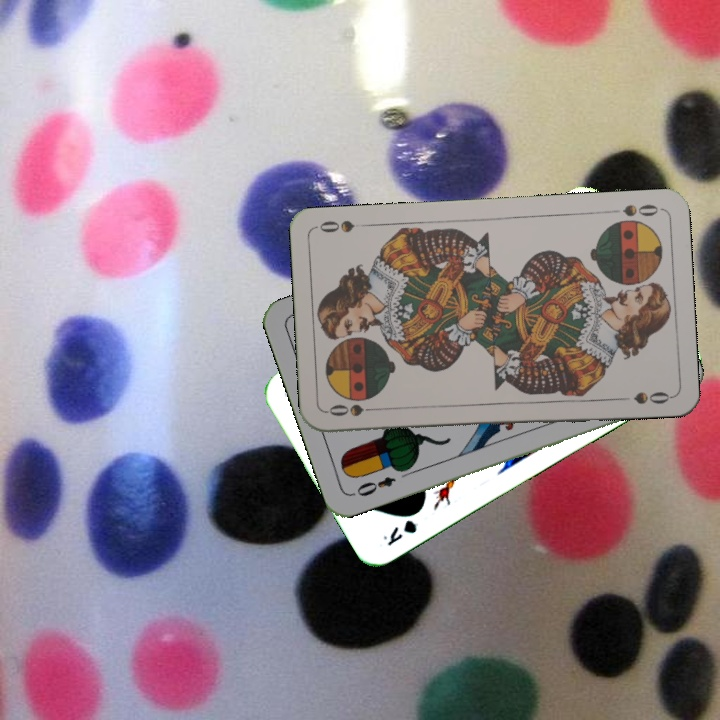EO: (352, 472, 399, 499)
GK: (379, 515, 420, 549)
SO: (324, 400, 383, 419), (619, 200, 661, 219)
